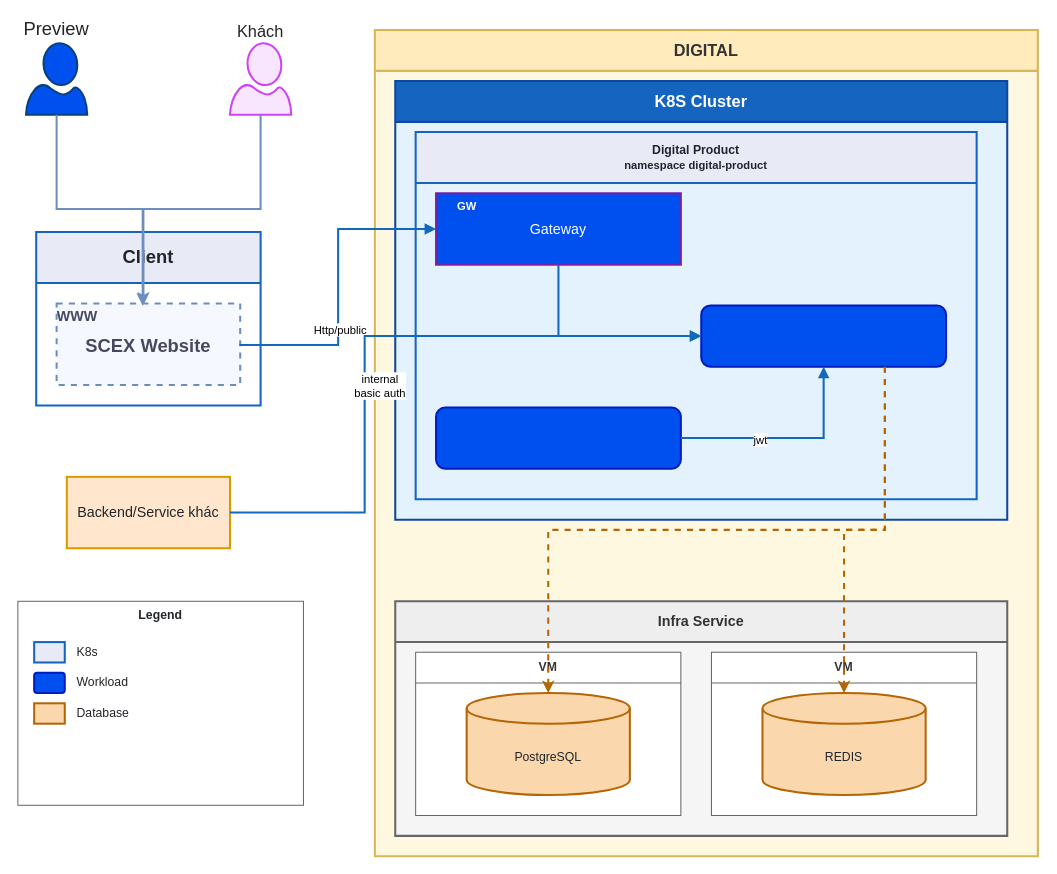
Some shapes in this 1057 by 874 pixel diagram are drawn without their labels. Here are the shapes that lost their labels. From the top down, the centre of each, then its label:
At (823,335): "SCEX Website Service (dp-scex-website-service)".
At (558,437): "CMS Frontend (SSR)".
